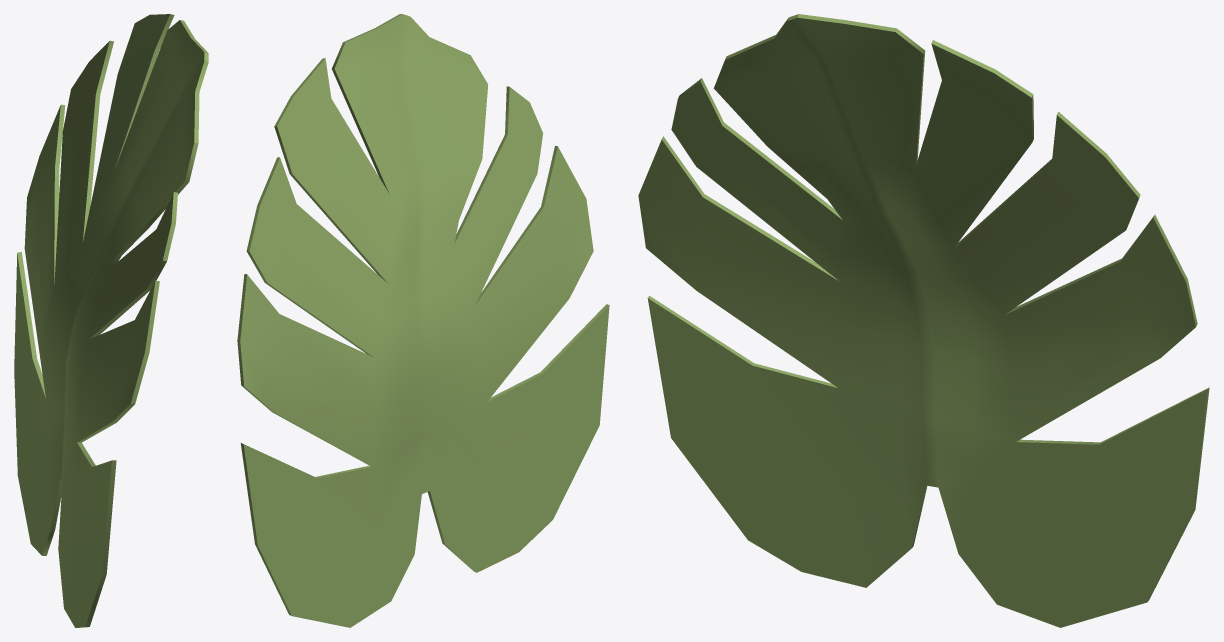
Rendered from Brooks_Fern_Monstera_Original LeafCurved.fbx.
3 renders of one model, left to right at view 1: azimuth 30°, elevation 25°; view 2: azimuth 150°, elevation 25°; view 3: azimuth 270°, elevation 25°, orthographic. The views are drawn at different scales.
Parts seen in each view (by area): view 1: Monstera_Curved; view 2: Monstera_Curved; view 3: Monstera_Curved.
Part boxes in pixels (box(x1,y1,x2,y2)): Monstera_Curved: box(14, 14, 208, 627); Monstera_Curved: box(237, 14, 609, 627); Monstera_Curved: box(638, 14, 1209, 627).
Size of the model in its own units: 5.48 by 15.17 by 12.18.
